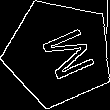M_SW: (26, 22, 91, 84)
